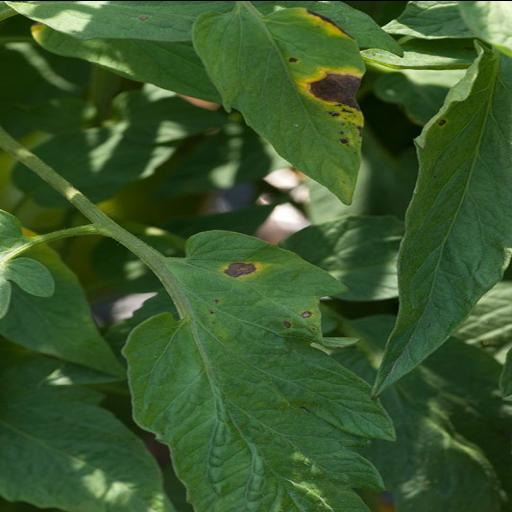Early Blight: (117, 230, 399, 512), (182, 0, 370, 203)
